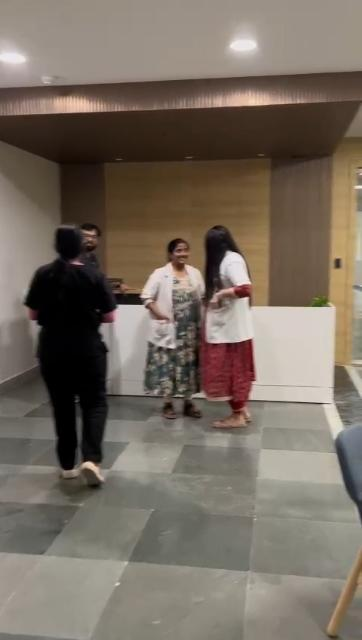floor: (0, 390, 326, 640)
moving-obj: (21, 226, 115, 520), (182, 229, 282, 431), (138, 227, 216, 419), (79, 232, 107, 300)
object: (334, 410, 362, 640)
wall: (4, 148, 42, 266)
